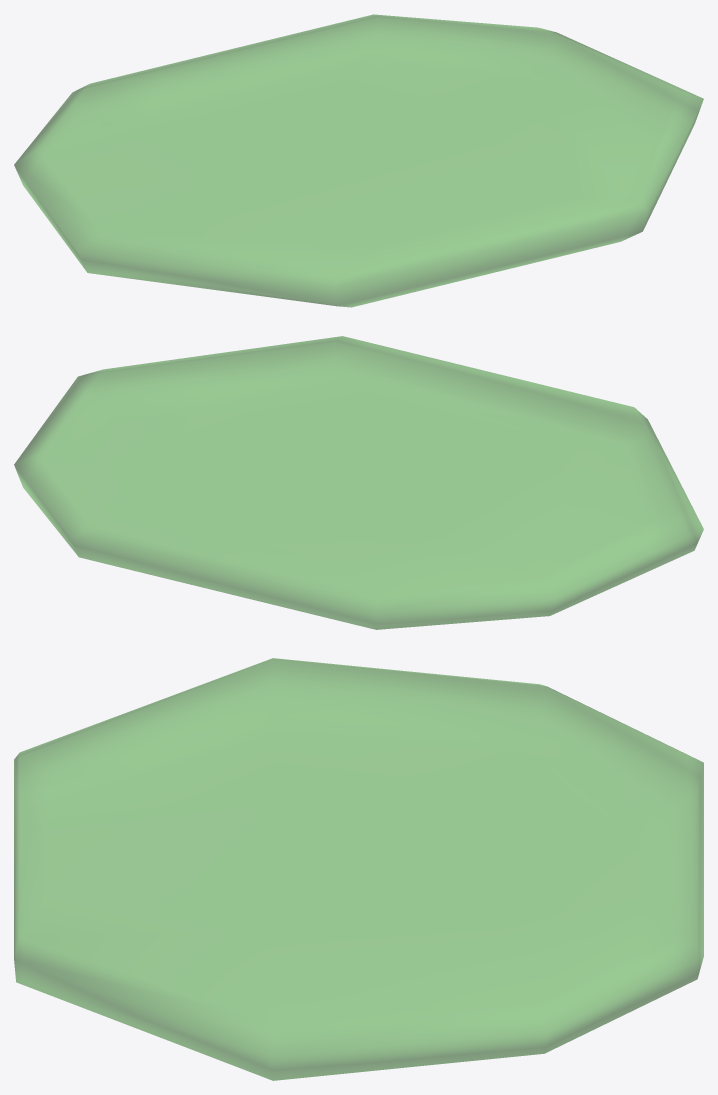
Rendered from Platform Green.fbx.
The picture shows the model from 3 angles, top to bottom: view 1: azimuth 30°, elevation 25°; view 2: azimuth 150°, elevation 25°; view 3: azimuth 270°, elevation 25°; orthographic projection. The views are drawn at different scales.
Parts seen in each view (by area): view 1: pCube56; view 2: pCube56; view 3: pCube56.
Part boxes in pixels (x1,y1,x2,y2): pCube56: (14,14,703,307); pCube56: (14,336,703,629); pCube56: (14,658,703,1080).
Size of the model in its own units: 33.18 by 3.19 by 24.38.
